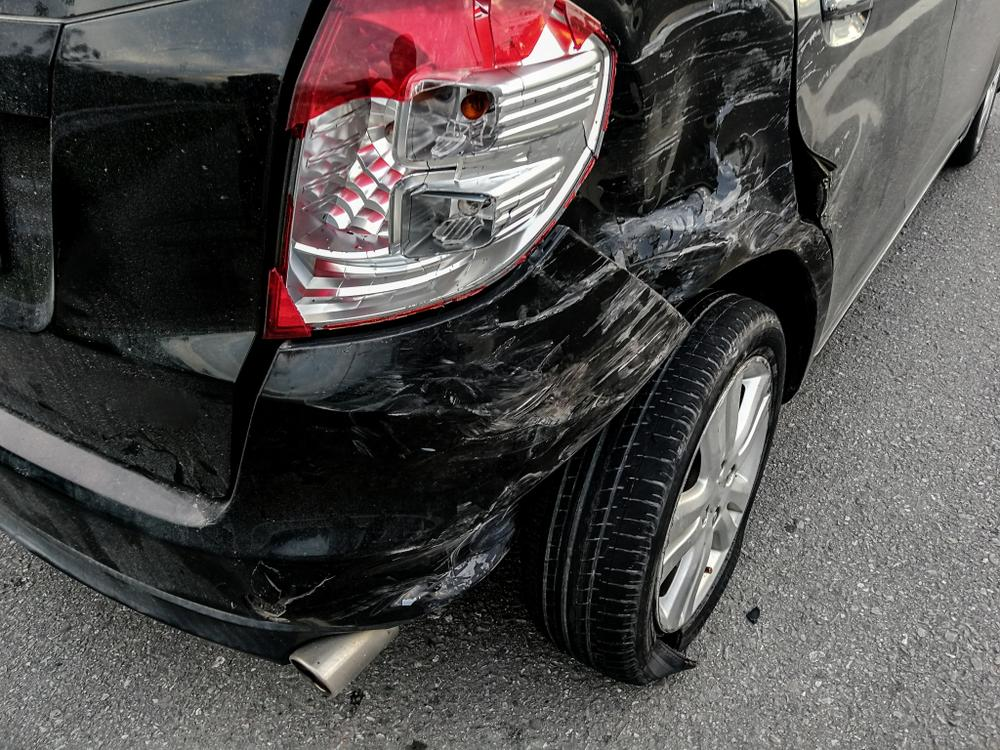lamp broken: (261, 0, 623, 337)
scratch: (334, 228, 689, 608), (623, 2, 798, 284)
